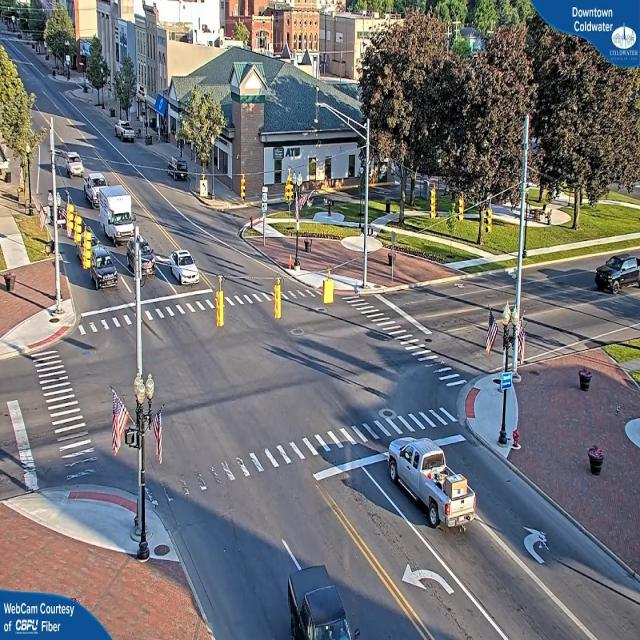car: (386, 426, 477, 537), (281, 567, 358, 640), (595, 252, 639, 293), (166, 250, 200, 285), (166, 160, 189, 180), (117, 124, 136, 142)
